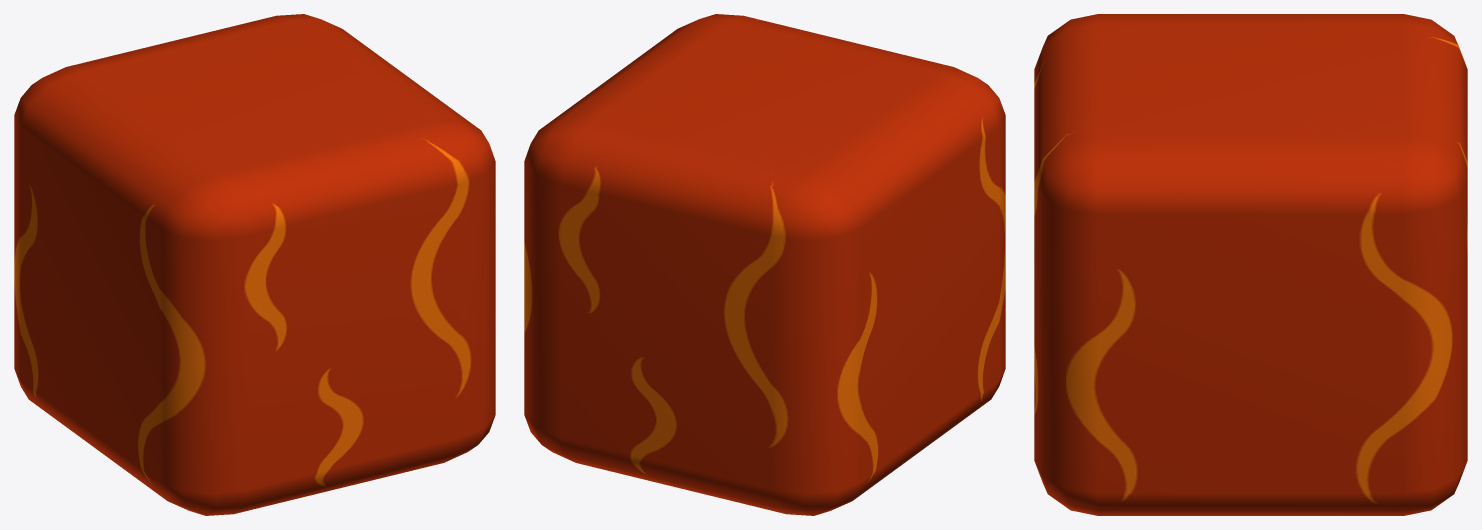
The picture shows the model from 3 angles, left to right: view 1: azimuth 30°, elevation 25°; view 2: azimuth 150°, elevation 25°; view 3: azimuth 270°, elevation 25°; orthographic projection. The views are drawn at different scales.
Visible parts, largest first — view 1: Box2; view 2: Box2; view 3: Box2.
Part boxes in pixels (x1,y1,x2,y2): Box2: (14,14,495,515); Box2: (524,14,1005,515); Box2: (1034,14,1467,515).
Size of the model in its own units: 1.01 by 0.9786 by 1.04.
